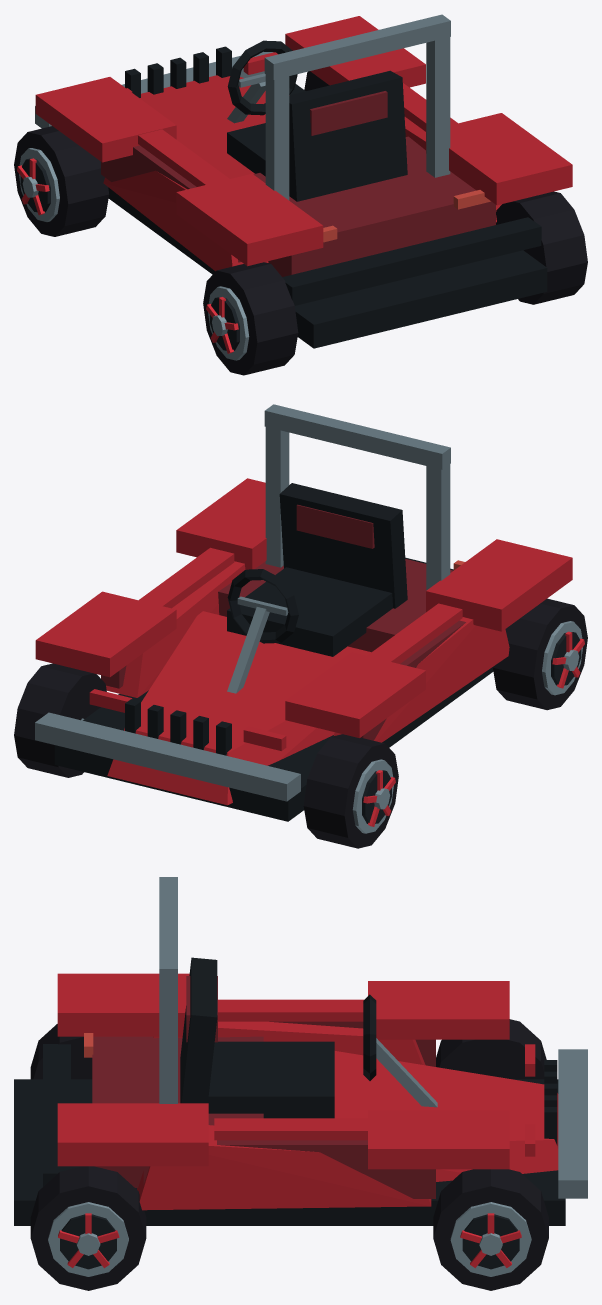
Rendered from kart.glb.
The picture shows the model from 3 angles, top to bottom: view 1: azimuth 30°, elevation 25°; view 2: azimuth 150°, elevation 25°; view 3: azimuth 270°, elevation 25°; orthographic projection. The views are drawn at different scales.
Visible parts, largest first — view 1: chassis, wheel-rear-left, wheel-front-left, wheel-rear-right; view 2: chassis, wheel-front-left, wheel-rear-left, wheel-front-right; view 3: chassis, wheel-rear-right, wheel-front-right, wheel-front-left, wheel-rear-left.
Boxes of the visible parts, x1,y1,x2,y2 form: chassis: (35,14,572,348); wheel-rear-left: (203,262,298,375); wheel-front-left: (14,126,109,236); wheel-rear-right: (496,191,587,304); chassis: (35,404,572,821); wheel-front-left: (303,734,398,848); wheel-rear-left: (492,598,587,710); wheel-front-right: (14,663,106,777); chassis: (14,877,587,1225); wheel-rear-right: (30,1166,146,1290); wheel-front-right: (433,1169,548,1290); wheel-front-left: (436,1019,546,1079); wheel-rear-left: (30,1024,92,1079).
Bounding box in the file's own units: 2.35 × 1.67 × 3.08.
